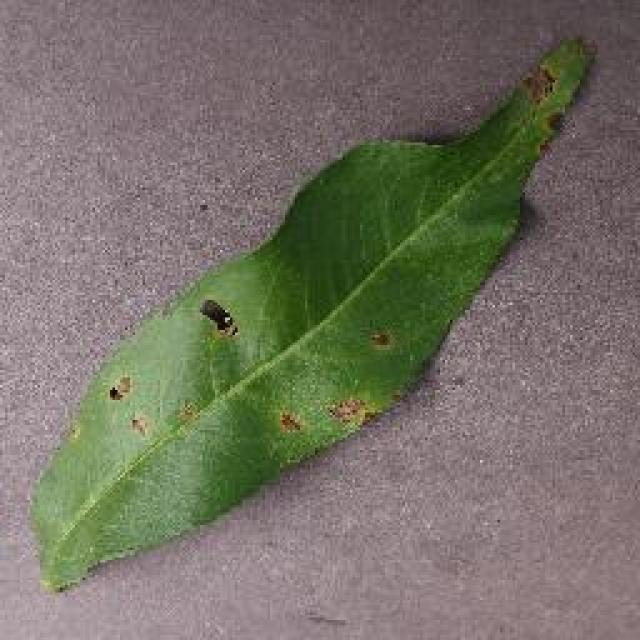Peach_Bacterial_Spot: (140, 243, 475, 482)
